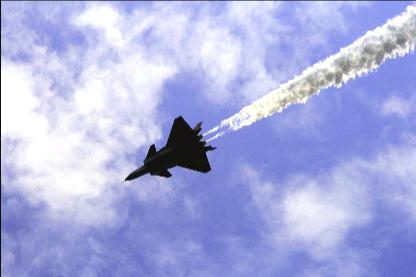F4: (120, 116, 216, 183)
